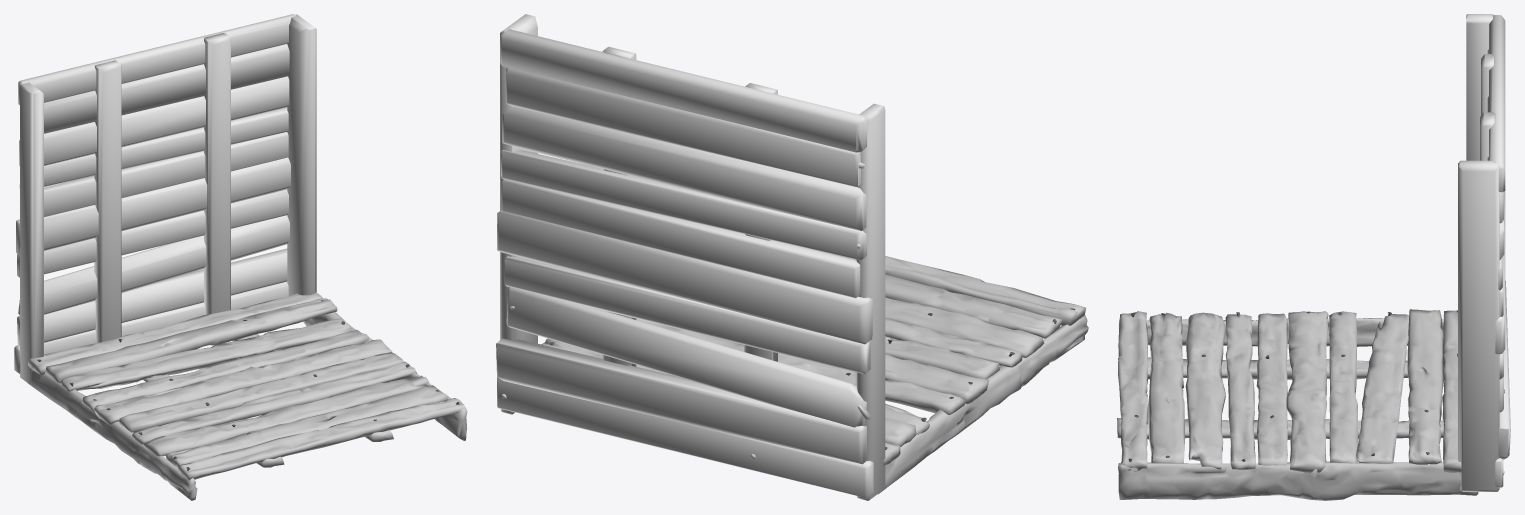
File: SM_WoodenFloor_B.fbx
The picture shows the model from 3 angles, left to right: view 1: azimuth 30°, elevation 25°; view 2: azimuth 150°, elevation 25°; view 3: azimuth 270°, elevation 25°; orthographic projection. The views are drawn at different scales.
Visible parts, largest first — view 1: SM_WoodenFloor_B_ConvexHulls, SM_WoodenFloor_B; view 2: SM_WoodenFloor_B_ConvexHulls, SM_WoodenFloor_B; view 3: SM_WoodenFloor_B, SM_WoodenFloor_B_ConvexHulls.
Boxes of the visible parts, x1,y1,x2,y2 form: SM_WoodenFloor_B_ConvexHulls: [14, 14, 316, 384]; SM_WoodenFloor_B: [27, 292, 467, 500]; SM_WoodenFloor_B_ConvexHulls: [496, 14, 885, 500]; SM_WoodenFloor_B: [541, 245, 1088, 494]; SM_WoodenFloor_B: [1117, 309, 1478, 500]; SM_WoodenFloor_B_ConvexHulls: [1458, 14, 1510, 491].
Size of the model in its own units: 3.06 by 3.11 by 3.29.
